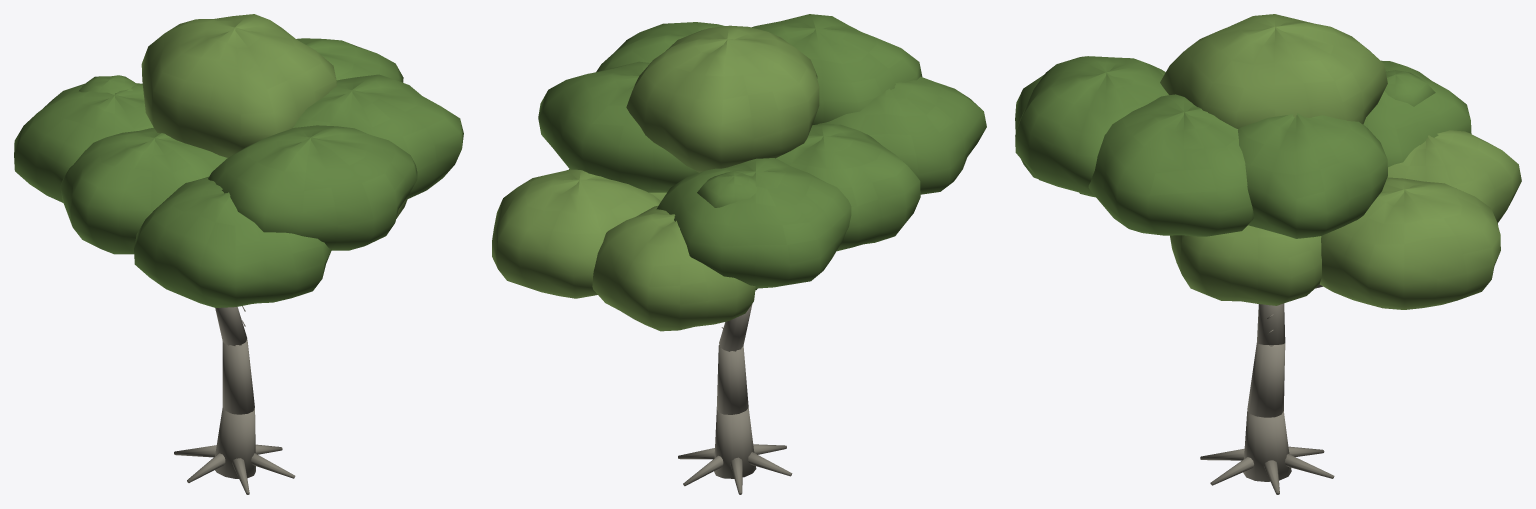
Rendered from beech_canopy_4.glb.
3 views of the same model, side by side, from view 1: azimuth 30°, elevation 25°; view 2: azimuth 150°, elevation 25°; view 3: azimuth 270°, elevation 25° (orthographic). The views are drawn at different scales.
Parts seen in each view (by area): view 1: beech_canopy_4_painted_export; view 2: beech_canopy_4_painted_export; view 3: beech_canopy_4_painted_export.
Part boxes in pixels (x1,y1,x2,y2): beech_canopy_4_painted_export: [14, 14, 463, 494]; beech_canopy_4_painted_export: [492, 14, 986, 494]; beech_canopy_4_painted_export: [1015, 14, 1521, 494].
Size of the model in its own units: 8.42 by 10.05 by 10.29.
